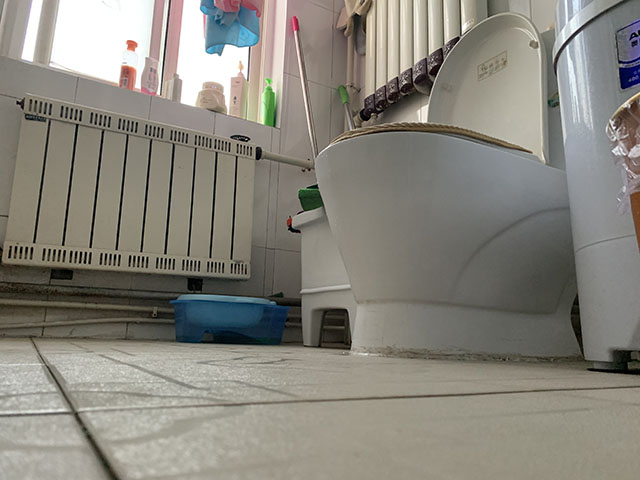closestool: (313, 9, 584, 364)
